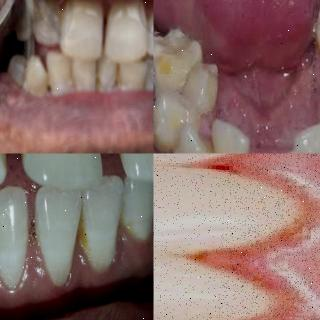Gum Swelling: (193, 154, 320, 320)
calculus: (41, 61, 55, 105), (112, 62, 128, 97), (94, 60, 106, 96), (230, 145, 256, 153)
maligned: (182, 62, 225, 110), (24, 55, 56, 99), (212, 118, 246, 154), (172, 126, 206, 154), (292, 120, 320, 154), (255, 142, 302, 154)
stains: (71, 200, 96, 256), (115, 208, 141, 249)
